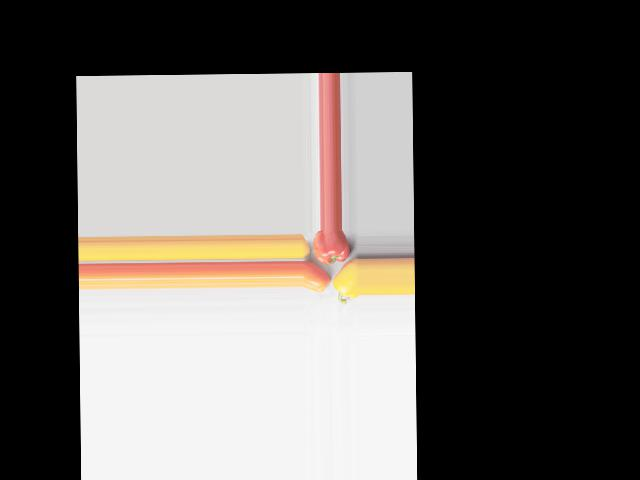bell_pepper: (313, 230, 351, 265)
